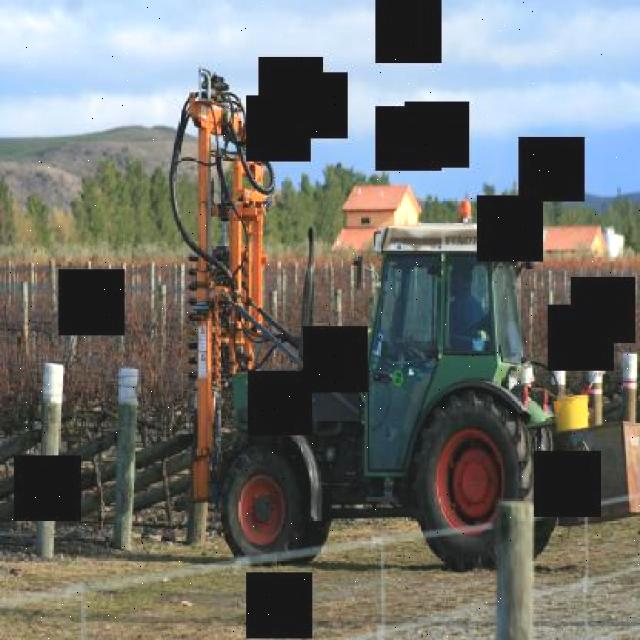Tratores - v5 YOLO V8L 2024-11-13: (218, 171, 578, 638)
